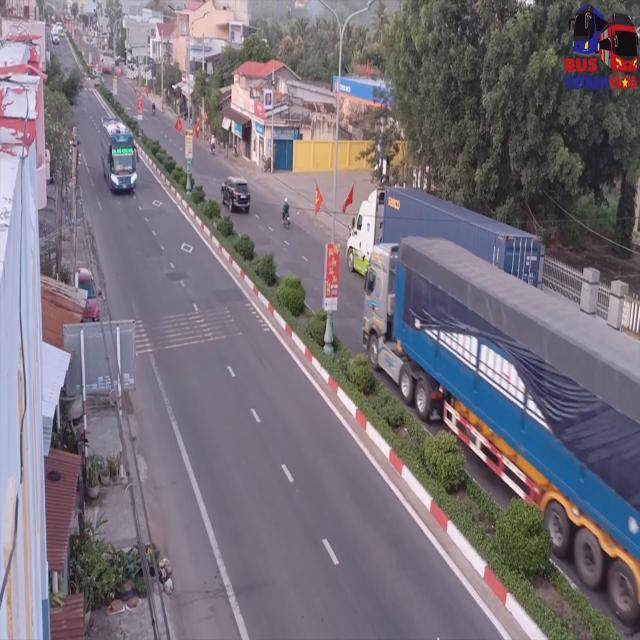bus: (104, 121, 137, 194)
car: (223, 176, 252, 213)
motorbike: (280, 194, 292, 230)
truck: (360, 233, 640, 618)
